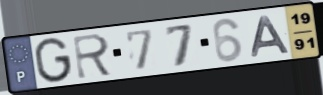6: (210, 16, 247, 64)
7: (164, 22, 197, 68), (125, 28, 155, 72)
A: (250, 14, 293, 59)
G: (33, 36, 74, 85)
R: (71, 31, 116, 81)
